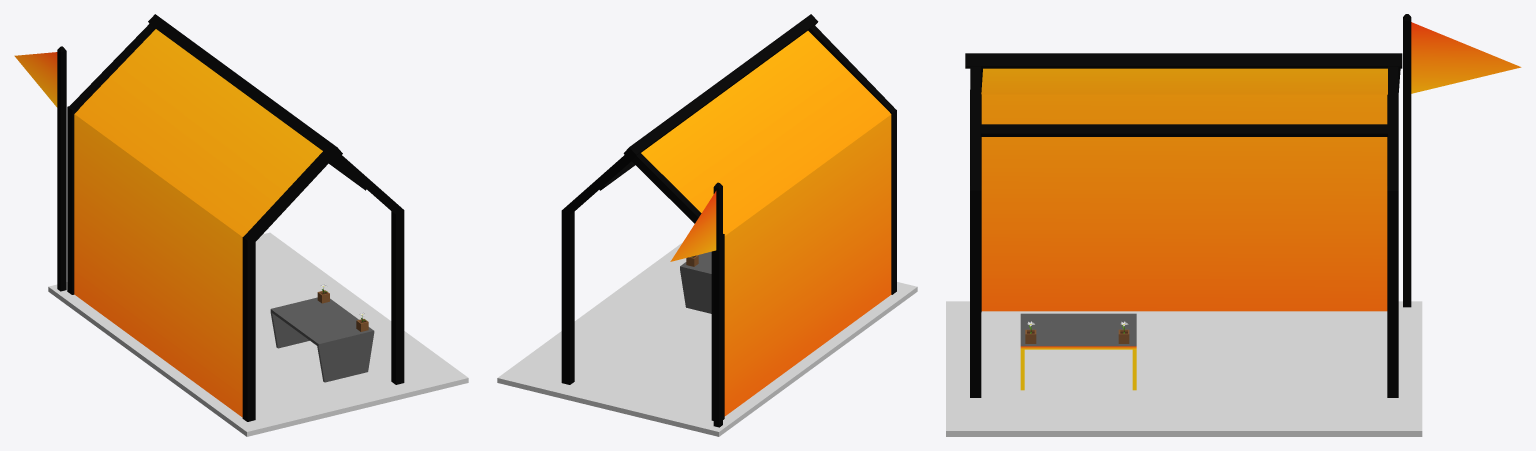
Rendered from stand_bronce.glb.
3 renders of one model, left to right at view 1: azimuth 30°, elevation 25°; view 2: azimuth 150°, elevation 25°; view 3: azimuth 270°, elevation 25°, orthographic. The views are drawn at different scales.
Visible parts, largest first — view 1: Cube.001, Cube, Cube.009, Cube.013, Cube.011, Cube.010, Cube.002, Cube.012, Cube.008, Plane, Cube.005, Cube.007; view 2: Cube.001, Cube, Cube.013, Cube.003, Cube.010, Cube.009, Plane, Cube.005, Cube.011, Cube.008, Cube.012, Cube.006; view 3: Cube.001, Cube, Cube.013, Cube.004, Cube.009, Plane, Cube.010, Cube.003, Cube.002, Cube.007, Cube.006.
Part boxes in pixels (x1,y1,x2,y2): Cube.001: (74, 29, 322, 417); Cube: (48, 232, 468, 436); Cube.009: (270, 297, 374, 382); Cube.013: (148, 14, 342, 161); Cube.011: (242, 237, 255, 421); Cube.010: (57, 46, 66, 291); Cube.002: (391, 210, 404, 384); Cube.012: (67, 106, 79, 294); Cube.008: (243, 151, 332, 241); Plane: (14, 52, 57, 107); Cube.005: (69, 23, 155, 109); Cube.007: (334, 155, 403, 213); Cube.001: (641, 31, 891, 416); Cube: (497, 242, 917, 436); Cube.013: (623, 14, 818, 160); Cube.003: (561, 210, 574, 384); Cube.010: (713, 182, 722, 427); Cube.009: (680, 251, 711, 313); Plane: (670, 191, 716, 261); Cube.005: (631, 152, 701, 223); Cube.011: (890, 110, 896, 294); Cube.008: (808, 25, 895, 112); Cube.012: (711, 234, 724, 420); Cube.006: (562, 155, 631, 214); Cube.001: (981, 68, 1387, 311); Cube: (946, 301, 1422, 436); Cube.013: (965, 53, 1402, 68); Cube.004: (981, 124, 1387, 136); Cube.009: (1020, 313, 1136, 390); Plane: (1411, 22, 1521, 93); Cube.010: (1403, 14, 1411, 307); Cube.003: (1387, 186, 1398, 397); Cube.002: (970, 186, 981, 397); Cube.007: (970, 66, 980, 190); Cube.006: (1388, 66, 1398, 190).
Size of the model in its own units: 1.67 by 1.9 by 3.14.
8 materials, 2 textured.
